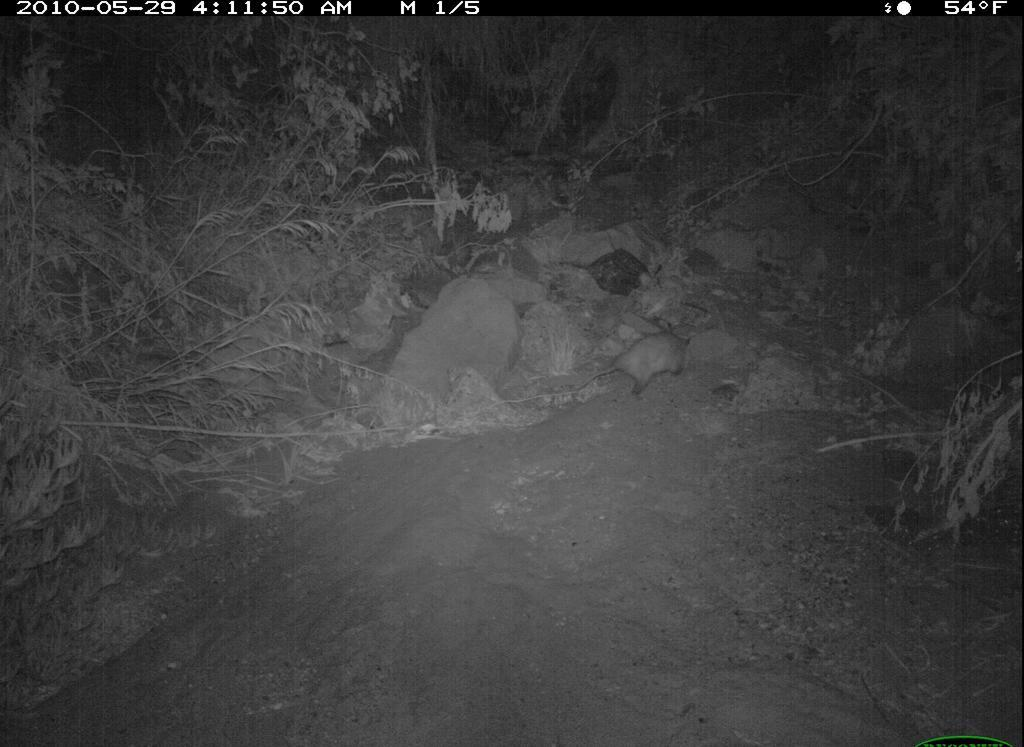opossum: (579, 318, 698, 401)
